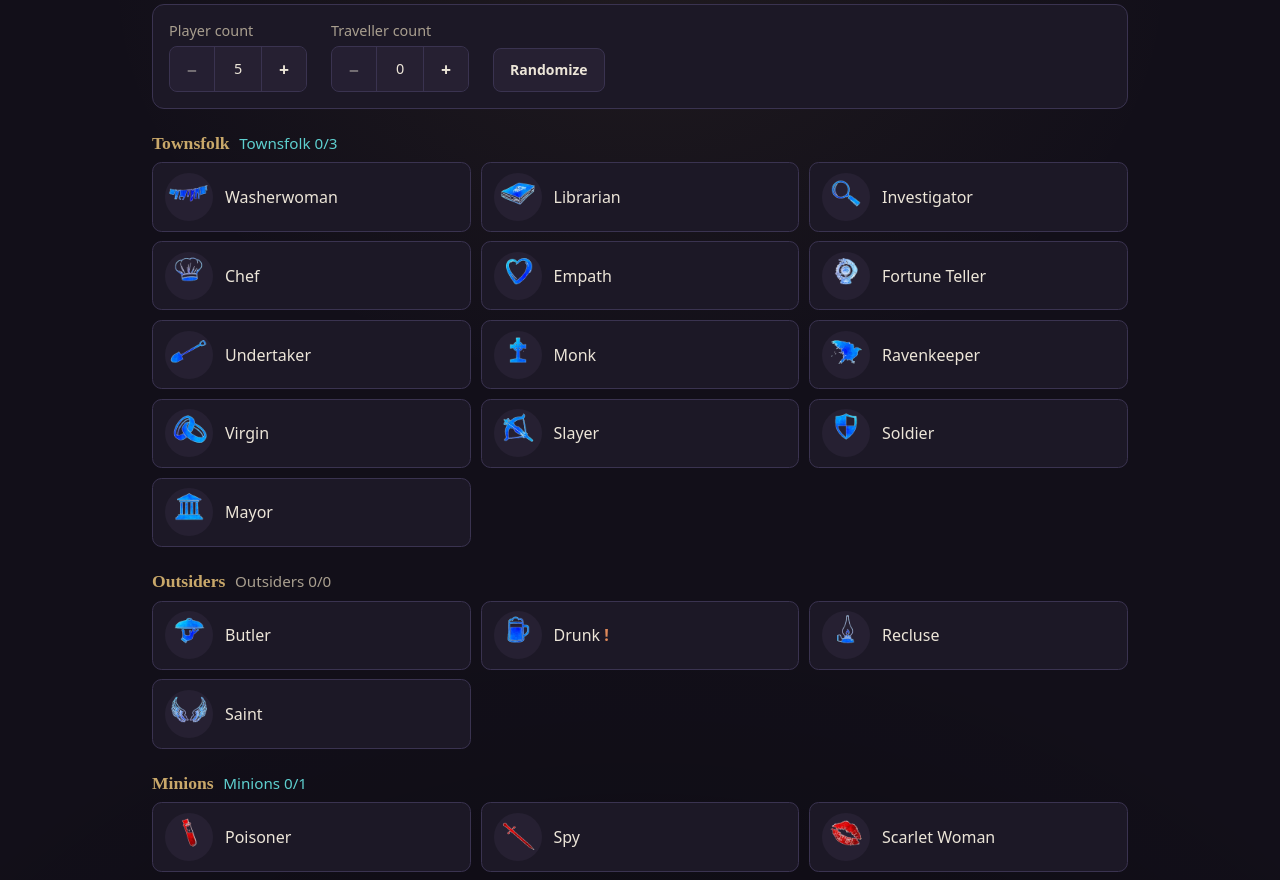
it: generic setup-modifier adjustment (AC3) › adjusts Outsider/Townsfolk targets and shows the modifier's explanation when Baron is selected
Step 1. Replace the text in the number field labelled "Player count" with "13" → (238, 69), box [214,47,262,91]
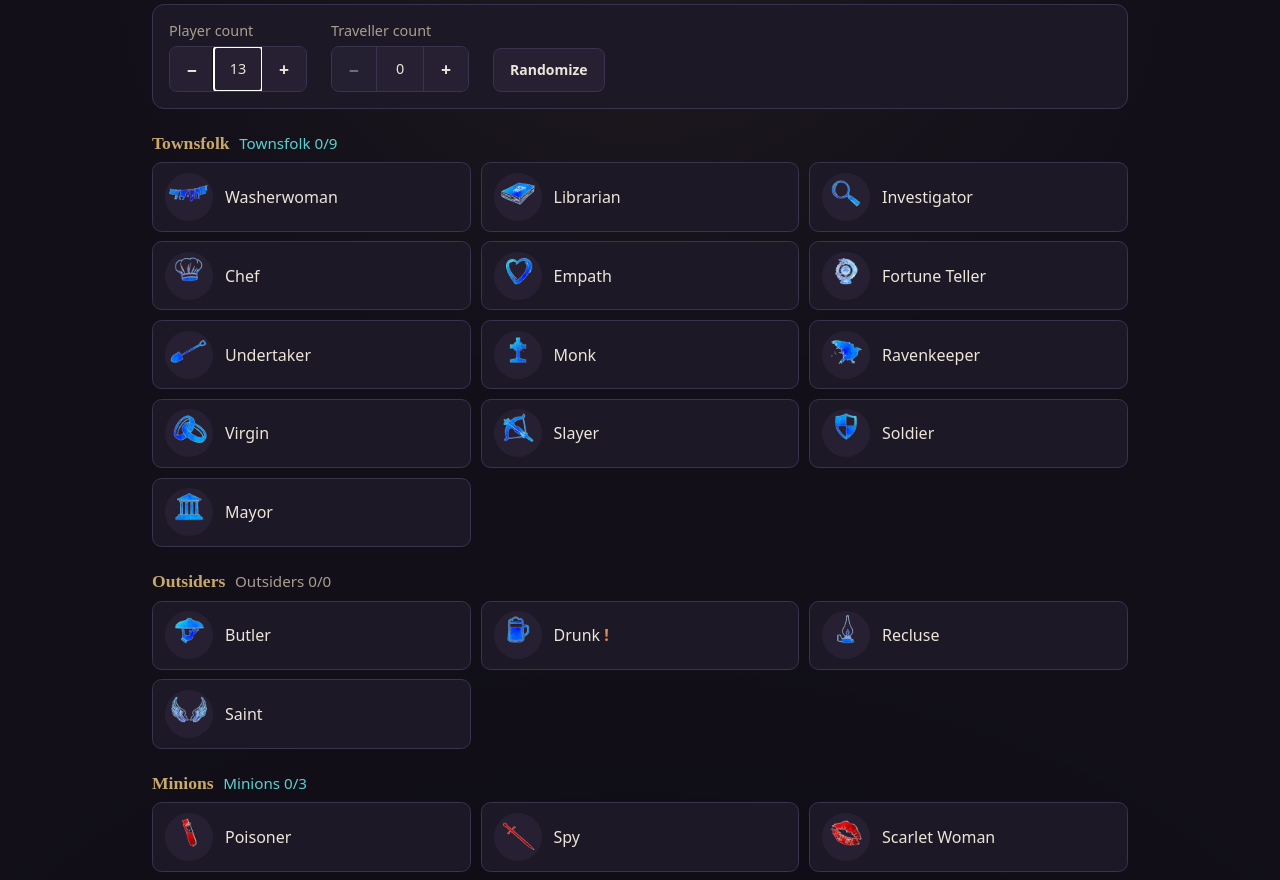
Step 2. Press Tab
(page scrolled)
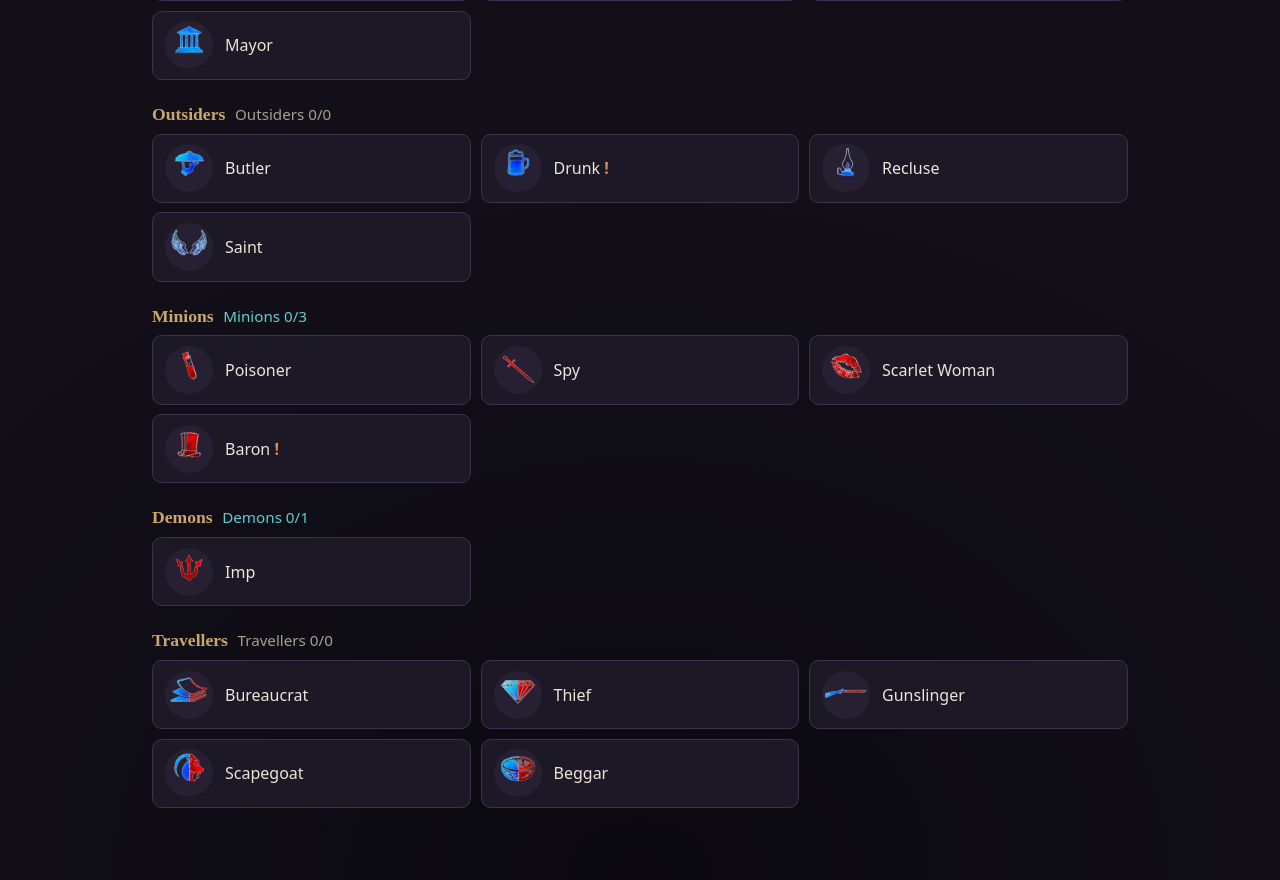
Expected: the text "Outsiders 0/0" is shown, [235,104,331,124]
Step 3. Click the button "Baron !" → click(189, 449), box [152,414,471,483]
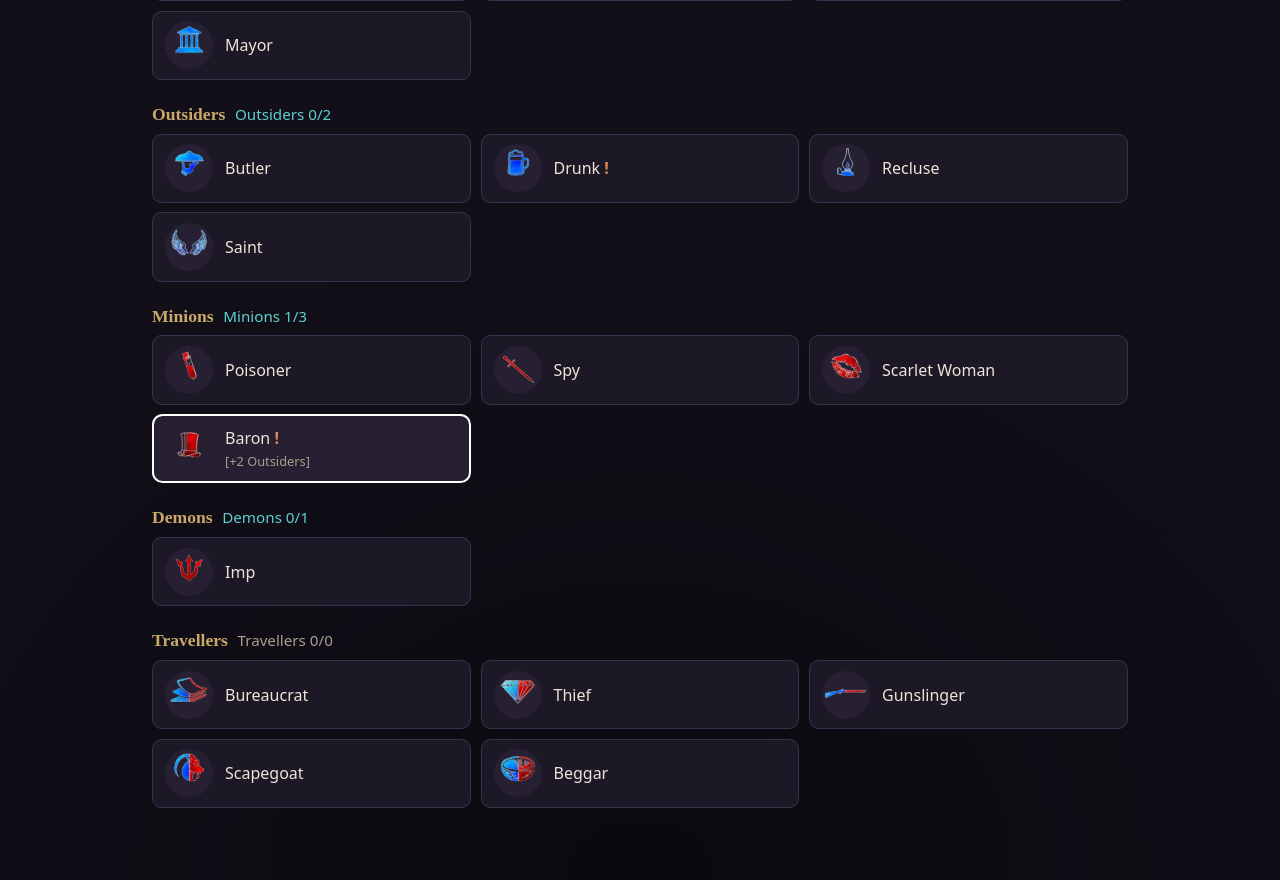
Expected: the text "Outsiders 0/2" is shown, [235,104,331,124]
Expected: the text "[+2 Outsiders]" is shown, [225,452,310,470]
